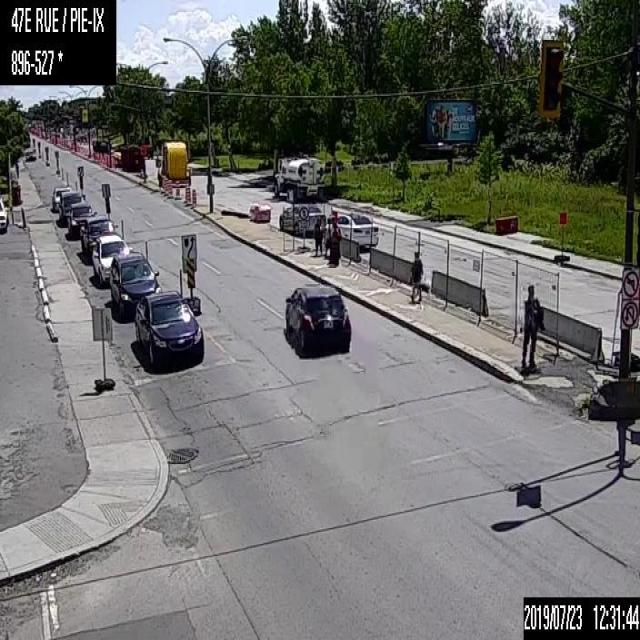construction: (177, 267, 183, 292), (184, 185, 190, 202), (167, 177, 172, 196), (144, 238, 148, 258), (175, 184, 180, 199), (192, 188, 196, 206), (120, 219, 124, 236), (65, 171, 68, 184), (74, 180, 77, 188)
pedestrian: (520, 284, 546, 375), (409, 249, 424, 304), (328, 218, 342, 267), (312, 215, 323, 256)
vehicle: (136, 288, 204, 368), (283, 283, 352, 357), (110, 251, 162, 319), (274, 152, 324, 202), (92, 232, 132, 283), (331, 212, 379, 248), (82, 213, 116, 260), (278, 200, 324, 234), (68, 200, 97, 238), (60, 188, 86, 226), (51, 184, 72, 212), (0, 195, 7, 229), (25, 148, 35, 160)
